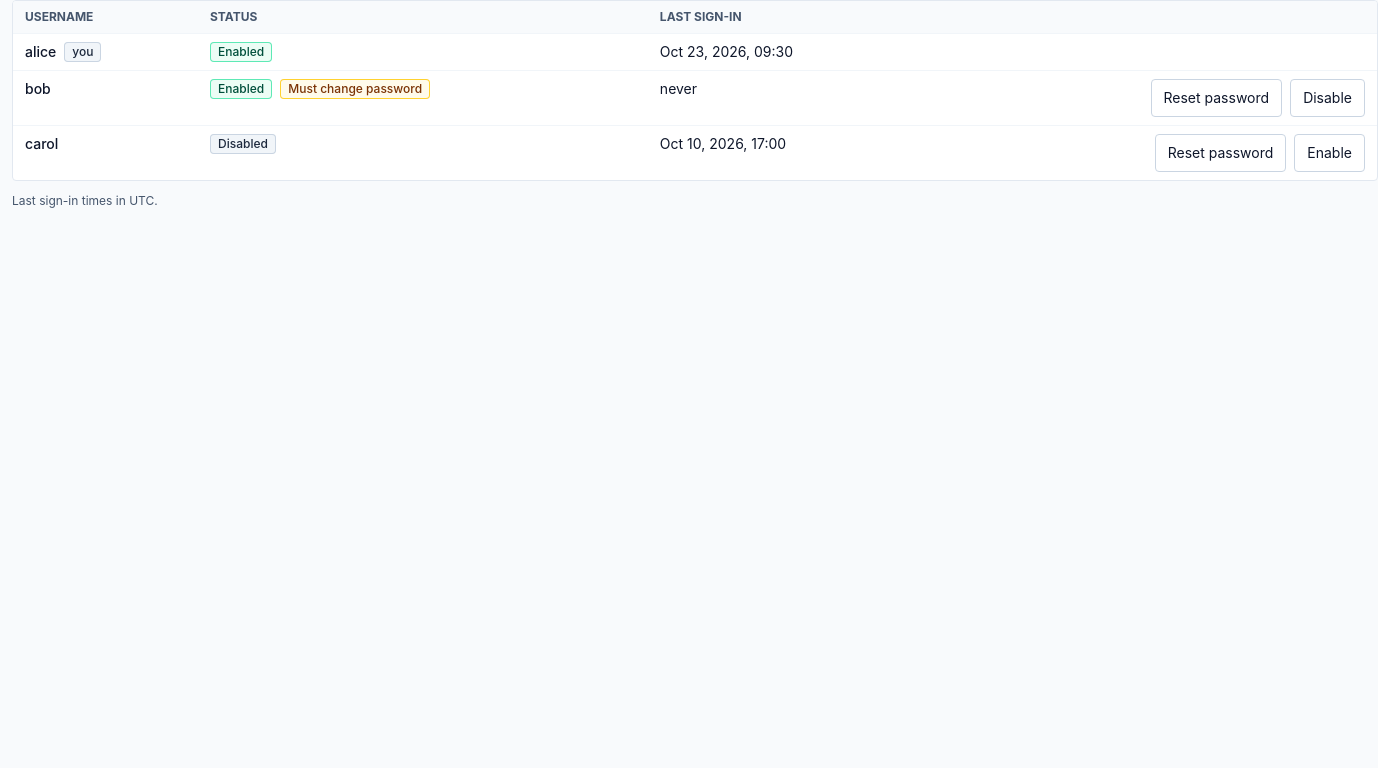
Test: OperatorsTable: reset password › shows a wrong current password
Click the button with aria-label "Reset the password of bob": (1216, 98) [1150,79,1282,117]
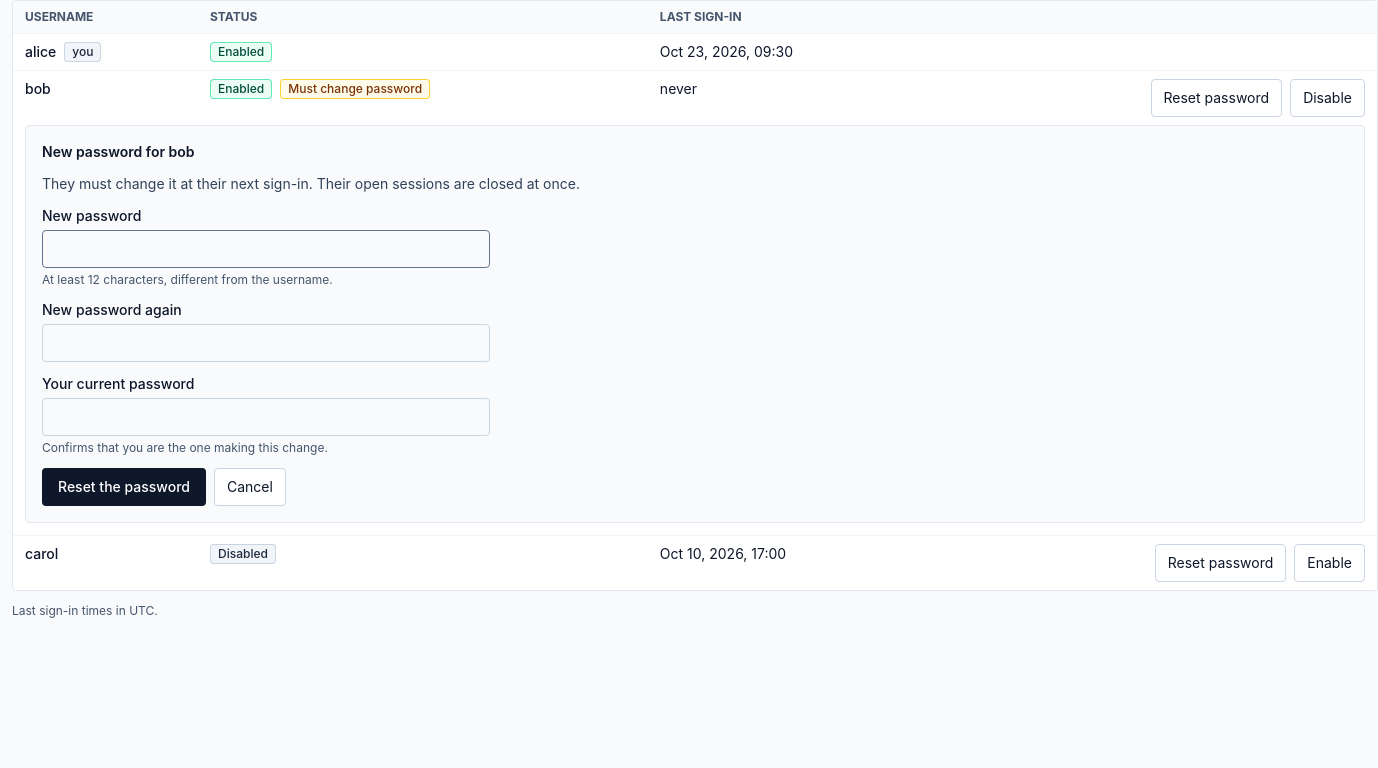
In the password field labelled "New password": (266, 249) [42,230,490,268], type "correct horse battery"
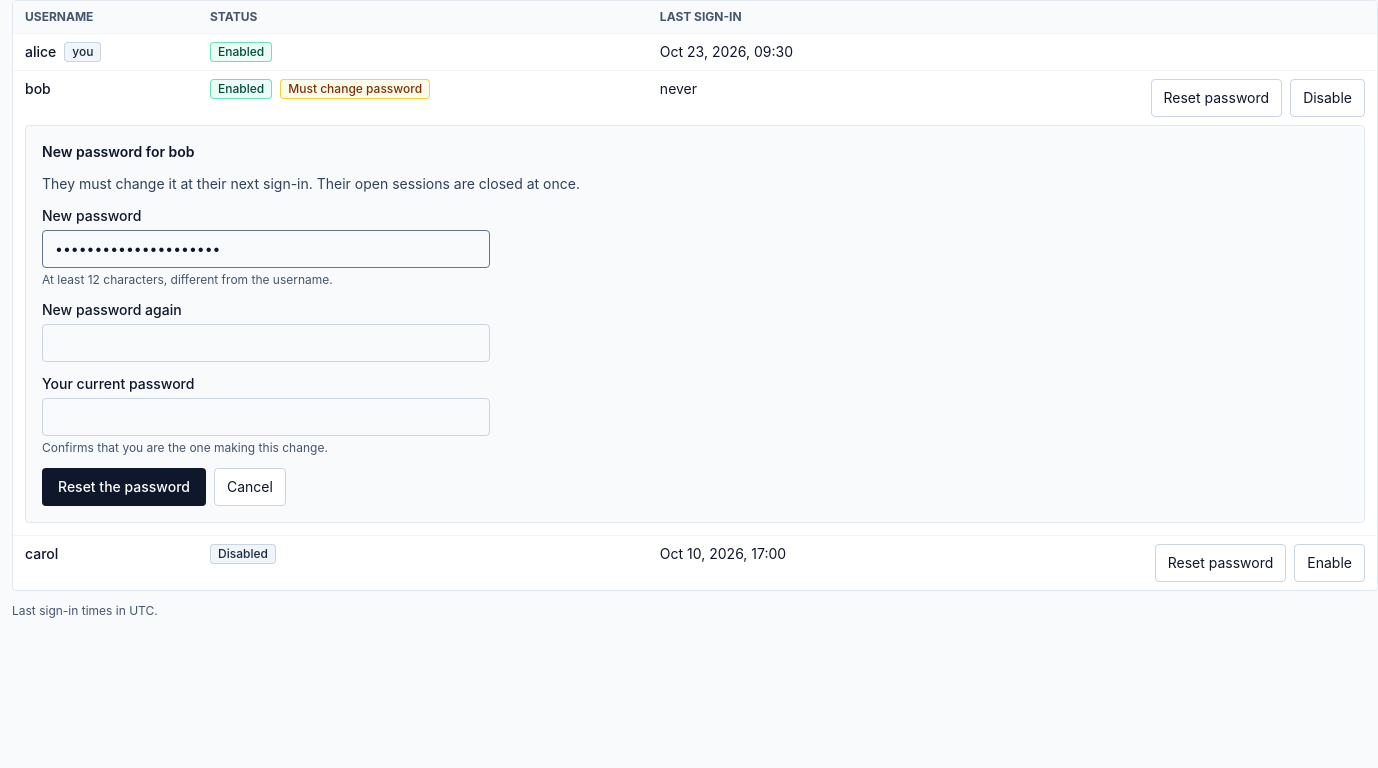
In the password field labelled "New password again": (266, 343) [42,324,490,362], type "correct horse battery"
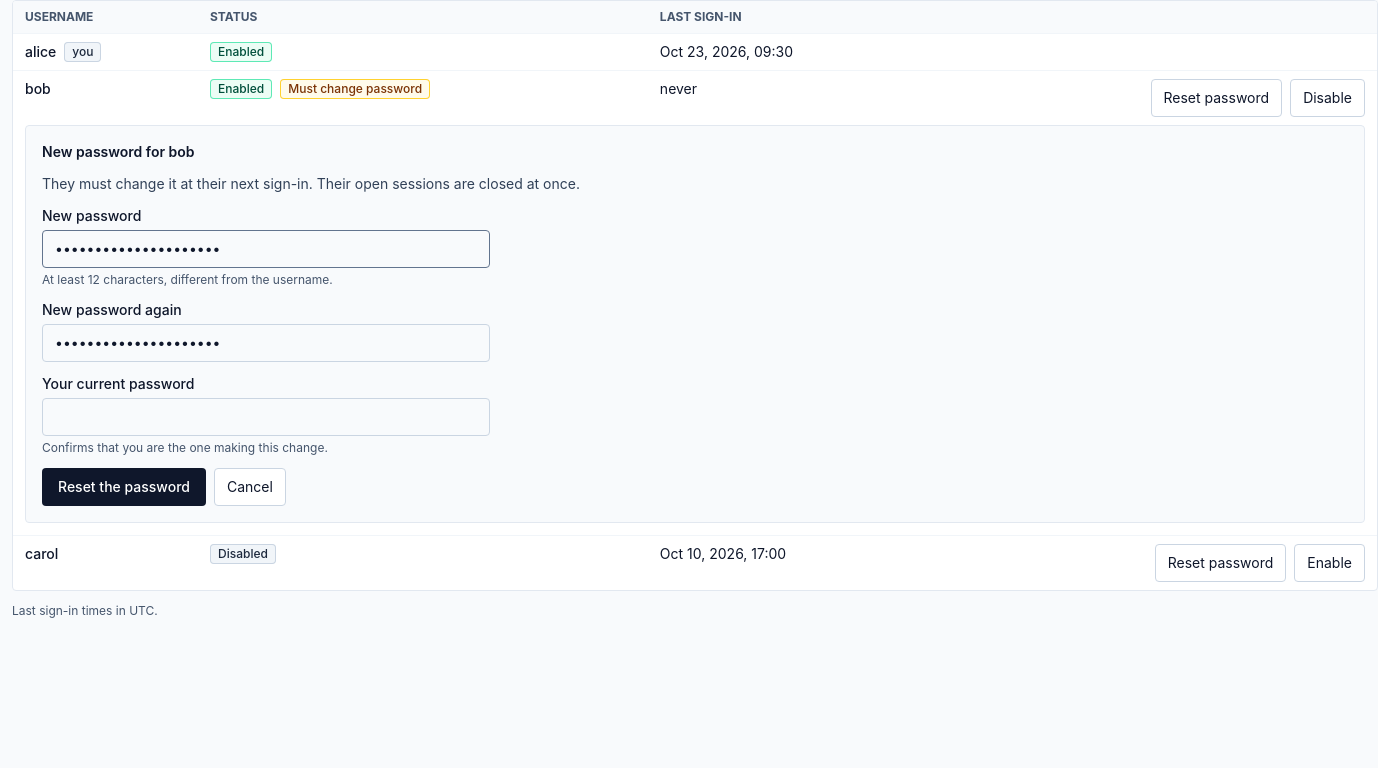
In the password field labelled "Your current password": (266, 417) [42,398,490,436], type "wrong password"
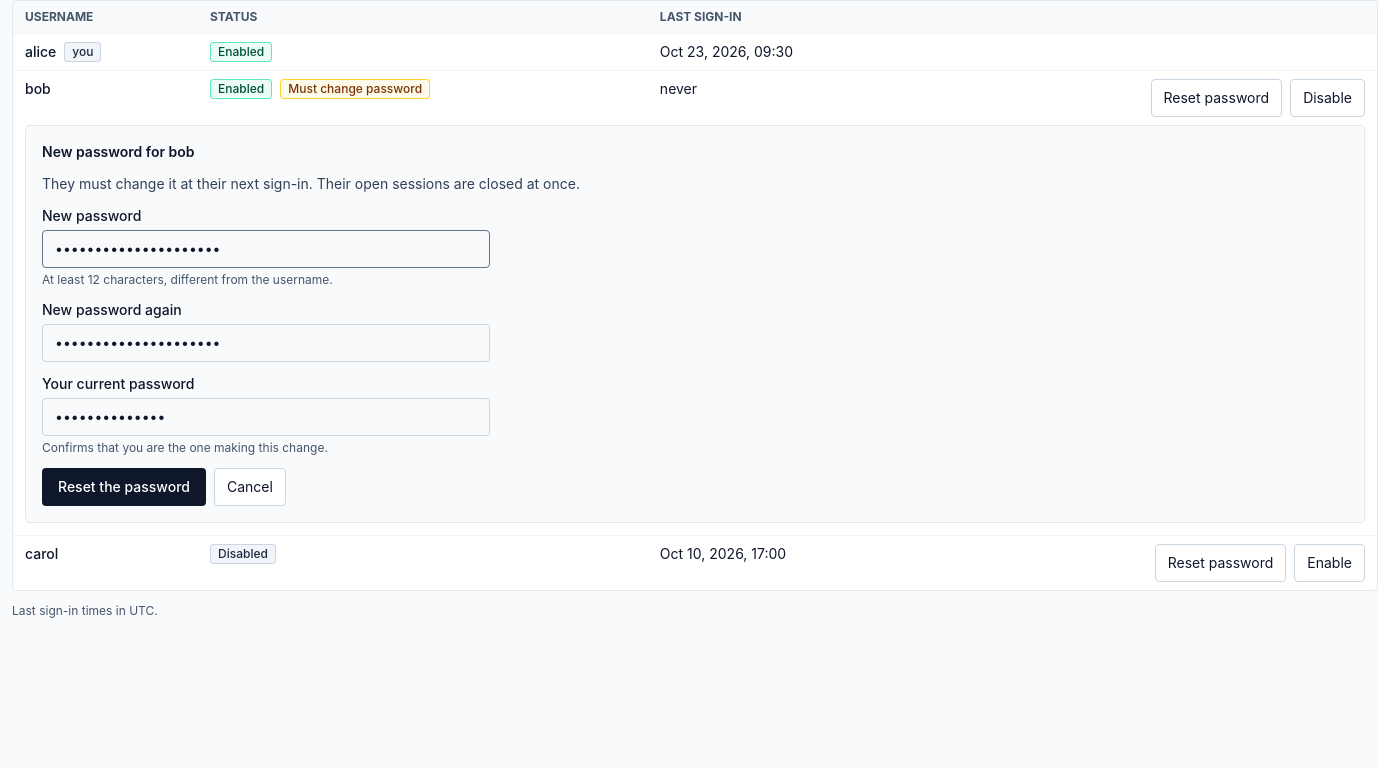
Click the button "Reset the password": (124, 487) [42,468,206,506]
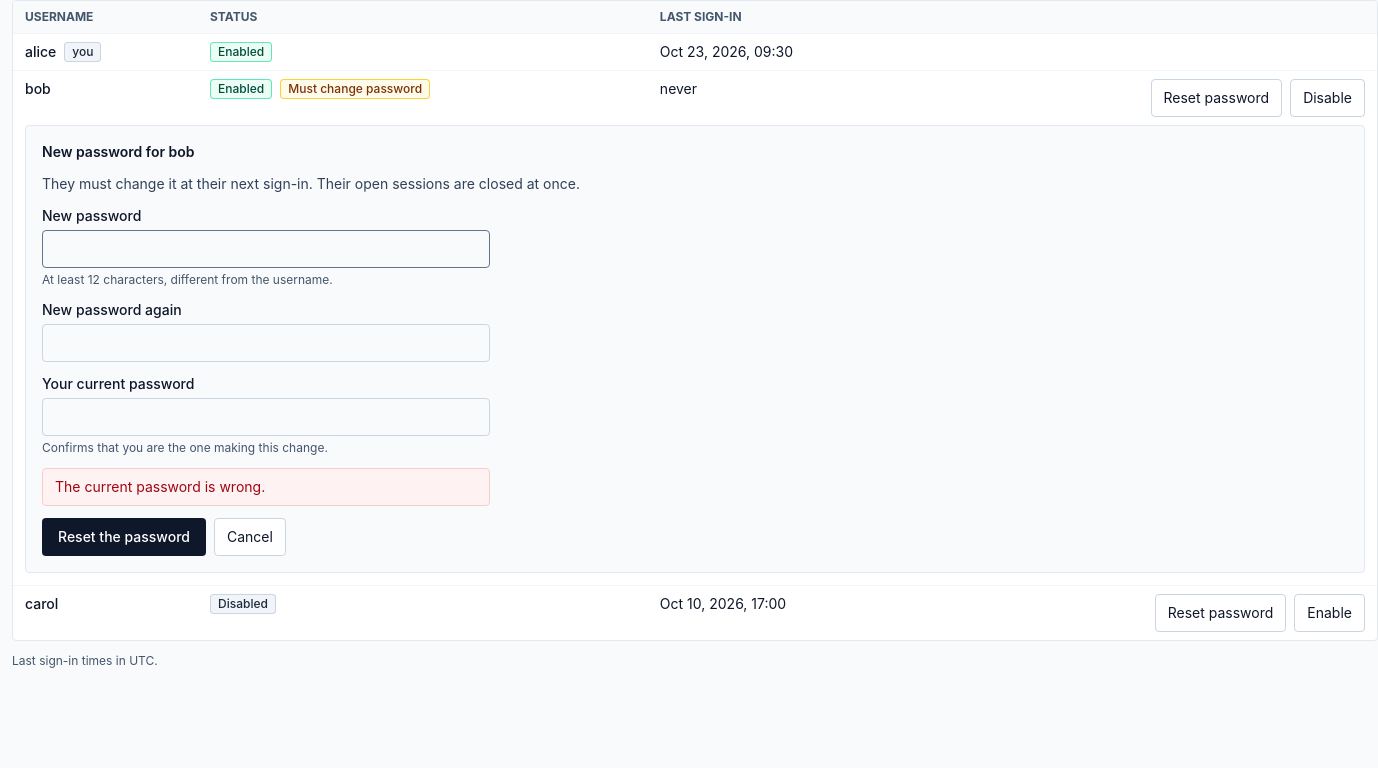
Now the message reads "The current password is wrong.", box [55,478,265,495]
